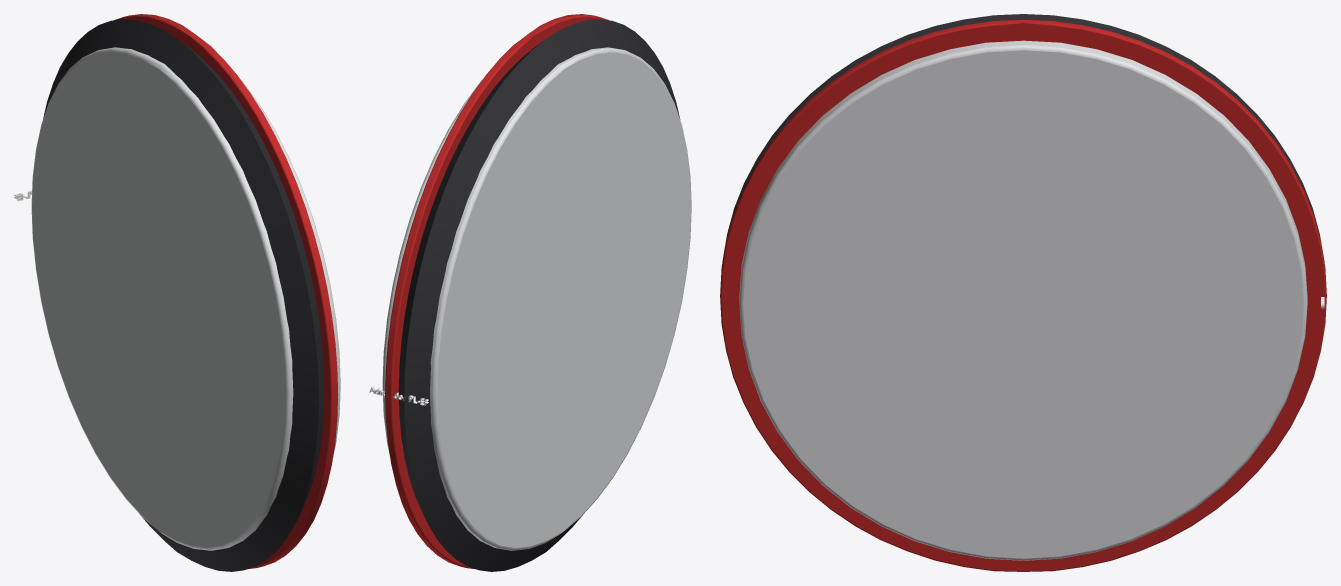
The picture shows the model from 3 angles, left to right: view 1: azimuth 30°, elevation 25°; view 2: azimuth 150°, elevation 25°; view 3: azimuth 270°, elevation 25°; orthographic projection. The views are drawn at different scales.
Parts seen in each view (by area): view 1: Adaptador PL-EF; view 2: Adaptador PL-EF; view 3: Adaptador PL-EF.
Part boxes in pixels (<box>): Adaptador PL-EF: <box>14,14,340,571</box>; Adaptador PL-EF: <box>369,14,691,571</box>; Adaptador PL-EF: <box>720,14,1326,571</box>.
Size of the model in its own units: 0.00925 by 0.0781 by 0.0782.
